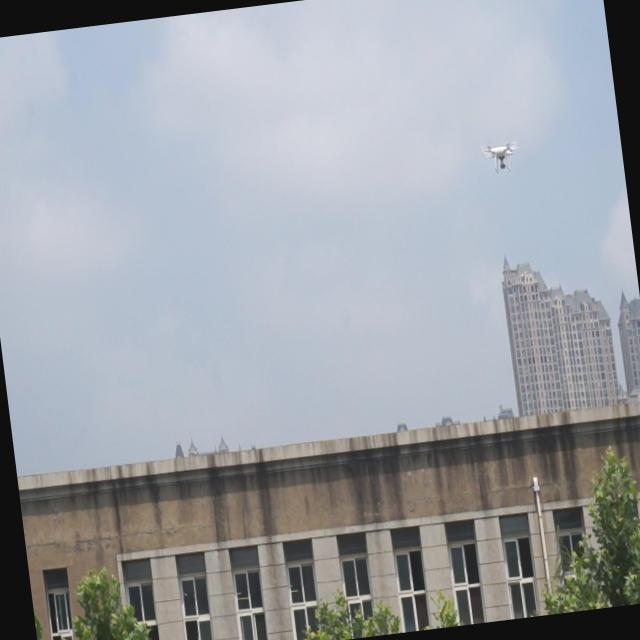drone: (478, 136, 523, 178)
